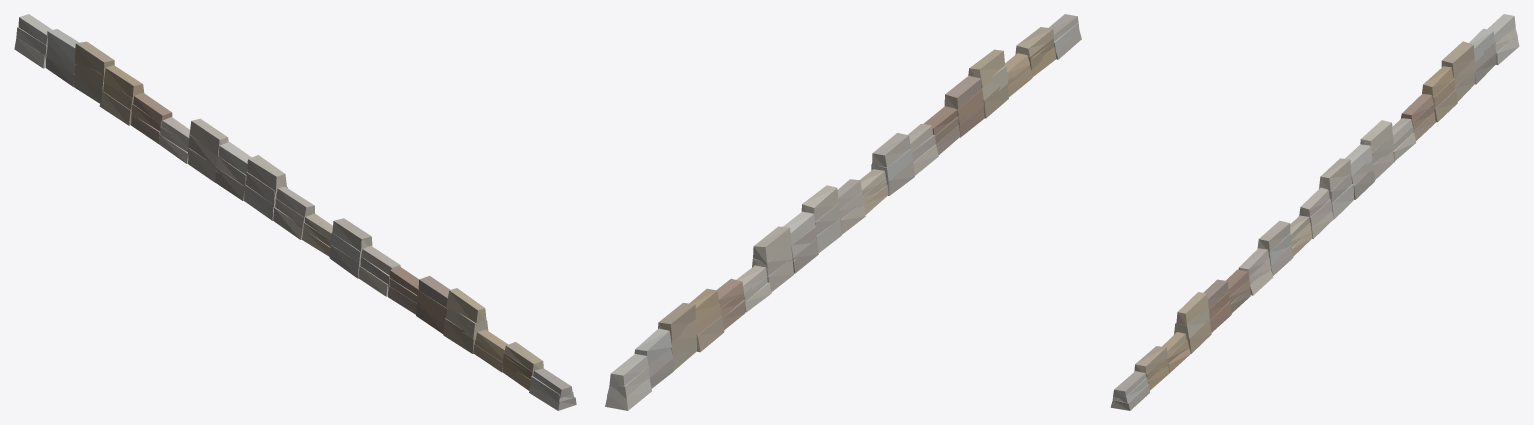
File: farm_21_22_mid.glb
3 views of the same model, side by side, from view 1: azimuth 30°, elevation 25°; view 2: azimuth 150°, elevation 25°; view 3: azimuth 330°, elevation 25° (orthographic). The views are drawn at different scales.
Visible parts, largest first — view 1: geometry_0; view 2: geometry_0; view 3: geometry_0.
Boxes of the visible parts, x1,y1,x2,y2 form: geometry_0: (14,14,576,410); geometry_0: (605,14,1081,410); geometry_0: (1110,14,1519,410).
Bounding box in the file's own units: 3 × 2.26 × 30.2.
